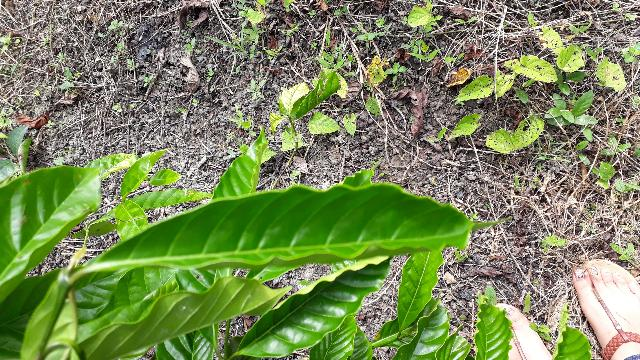healthy: (80, 179, 523, 282)
